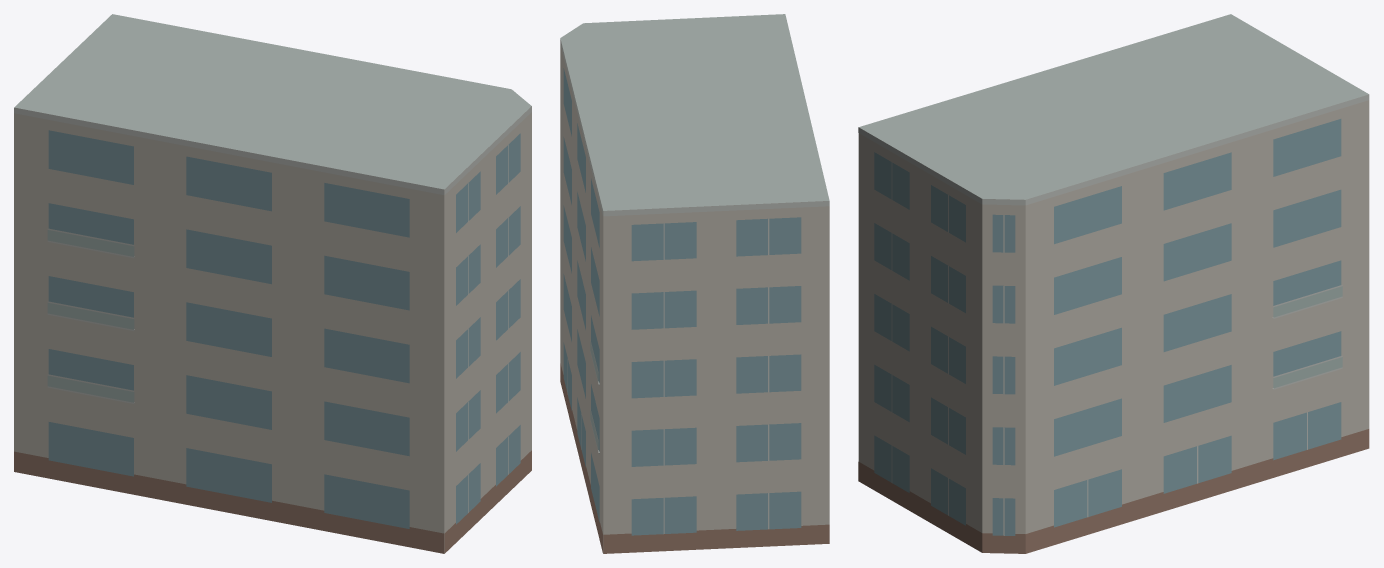
File: survey-upis-32631146.glb
3 renders of one model, left to right at view 1: azimuth 30°, elevation 25°; view 2: azimuth 150°, elevation 25°; view 3: azimuth 270°, elevation 25°, orthographic. The views are drawn at different scales.
Parts seen in each view (by area): view 1: survey-upis-32631146.tmp; view 2: survey-upis-32631146.tmp; view 3: survey-upis-32631146.tmp.
Part boxes in pixels (left/top/right/bottom): survey-upis-32631146.tmp: left=14, top=14, right=531, bottom=553; survey-upis-32631146.tmp: left=560, top=14, right=829, bottom=553; survey-upis-32631146.tmp: left=858, top=14, right=1369, bottom=553.
Size of the model in its own units: 17.17 by 15.25 by 19.95.
